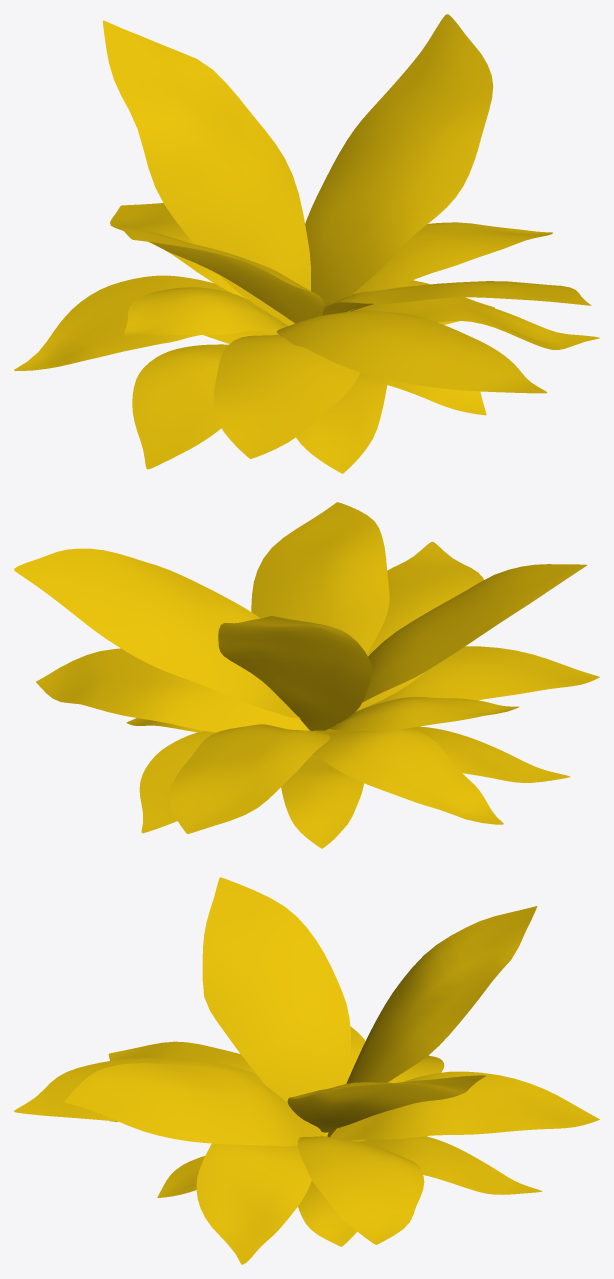
Rendered from PS_Level1_Fern02.fbx.
The picture shows the model from 3 angles, top to bottom: view 1: azimuth 30°, elevation 25°; view 2: azimuth 150°, elevation 25°; view 3: azimuth 270°, elevation 25°; orthographic projection. The views are drawn at different scales.
Visible parts, largest first — view 1: PS_Level1_Fern02_LOD0; view 2: PS_Level1_Fern02_LOD0; view 3: PS_Level1_Fern02_LOD0.
Boxes of the visible parts, x1=… form: PS_Level1_Fern02_LOD0: x1=14, y1=14, x2=599, y2=473; PS_Level1_Fern02_LOD0: x1=14, y1=502, x2=599, y2=848; PS_Level1_Fern02_LOD0: x1=14, y1=877, x2=599, y2=1264.
Size of what is drawn, in the model's own units: 42.53 by 21.48 by 48.61.
